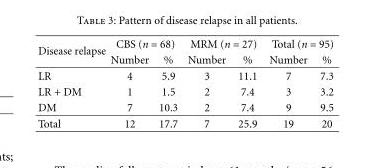table: (37, 36, 333, 129)
table column: (37, 36, 107, 129), (262, 36, 312, 129), (182, 36, 231, 129), (107, 36, 153, 129), (231, 36, 262, 129), (153, 36, 182, 129), (312, 36, 333, 129)
table column header: (37, 36, 333, 67)
table row: (37, 51, 333, 67), (37, 67, 333, 83), (37, 83, 333, 99), (37, 99, 333, 115), (37, 36, 333, 51), (37, 115, 333, 129)
table spanning cell: (37, 36, 107, 67), (182, 36, 262, 51), (107, 36, 182, 51), (262, 36, 333, 51)
